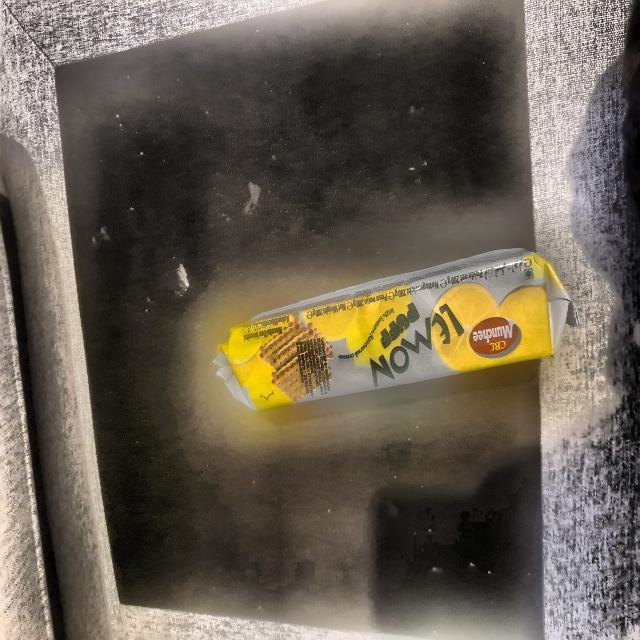lemon puff: (218, 241, 576, 415)
